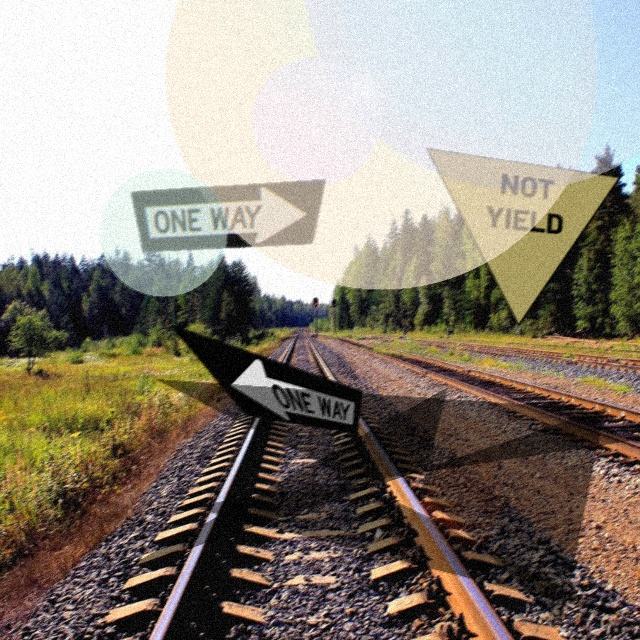NOT_YIELD: (425, 147, 621, 326)
ONE_WAY_ left: (167, 322, 363, 434)
ONE_WAY_ right: (130, 178, 326, 252)
